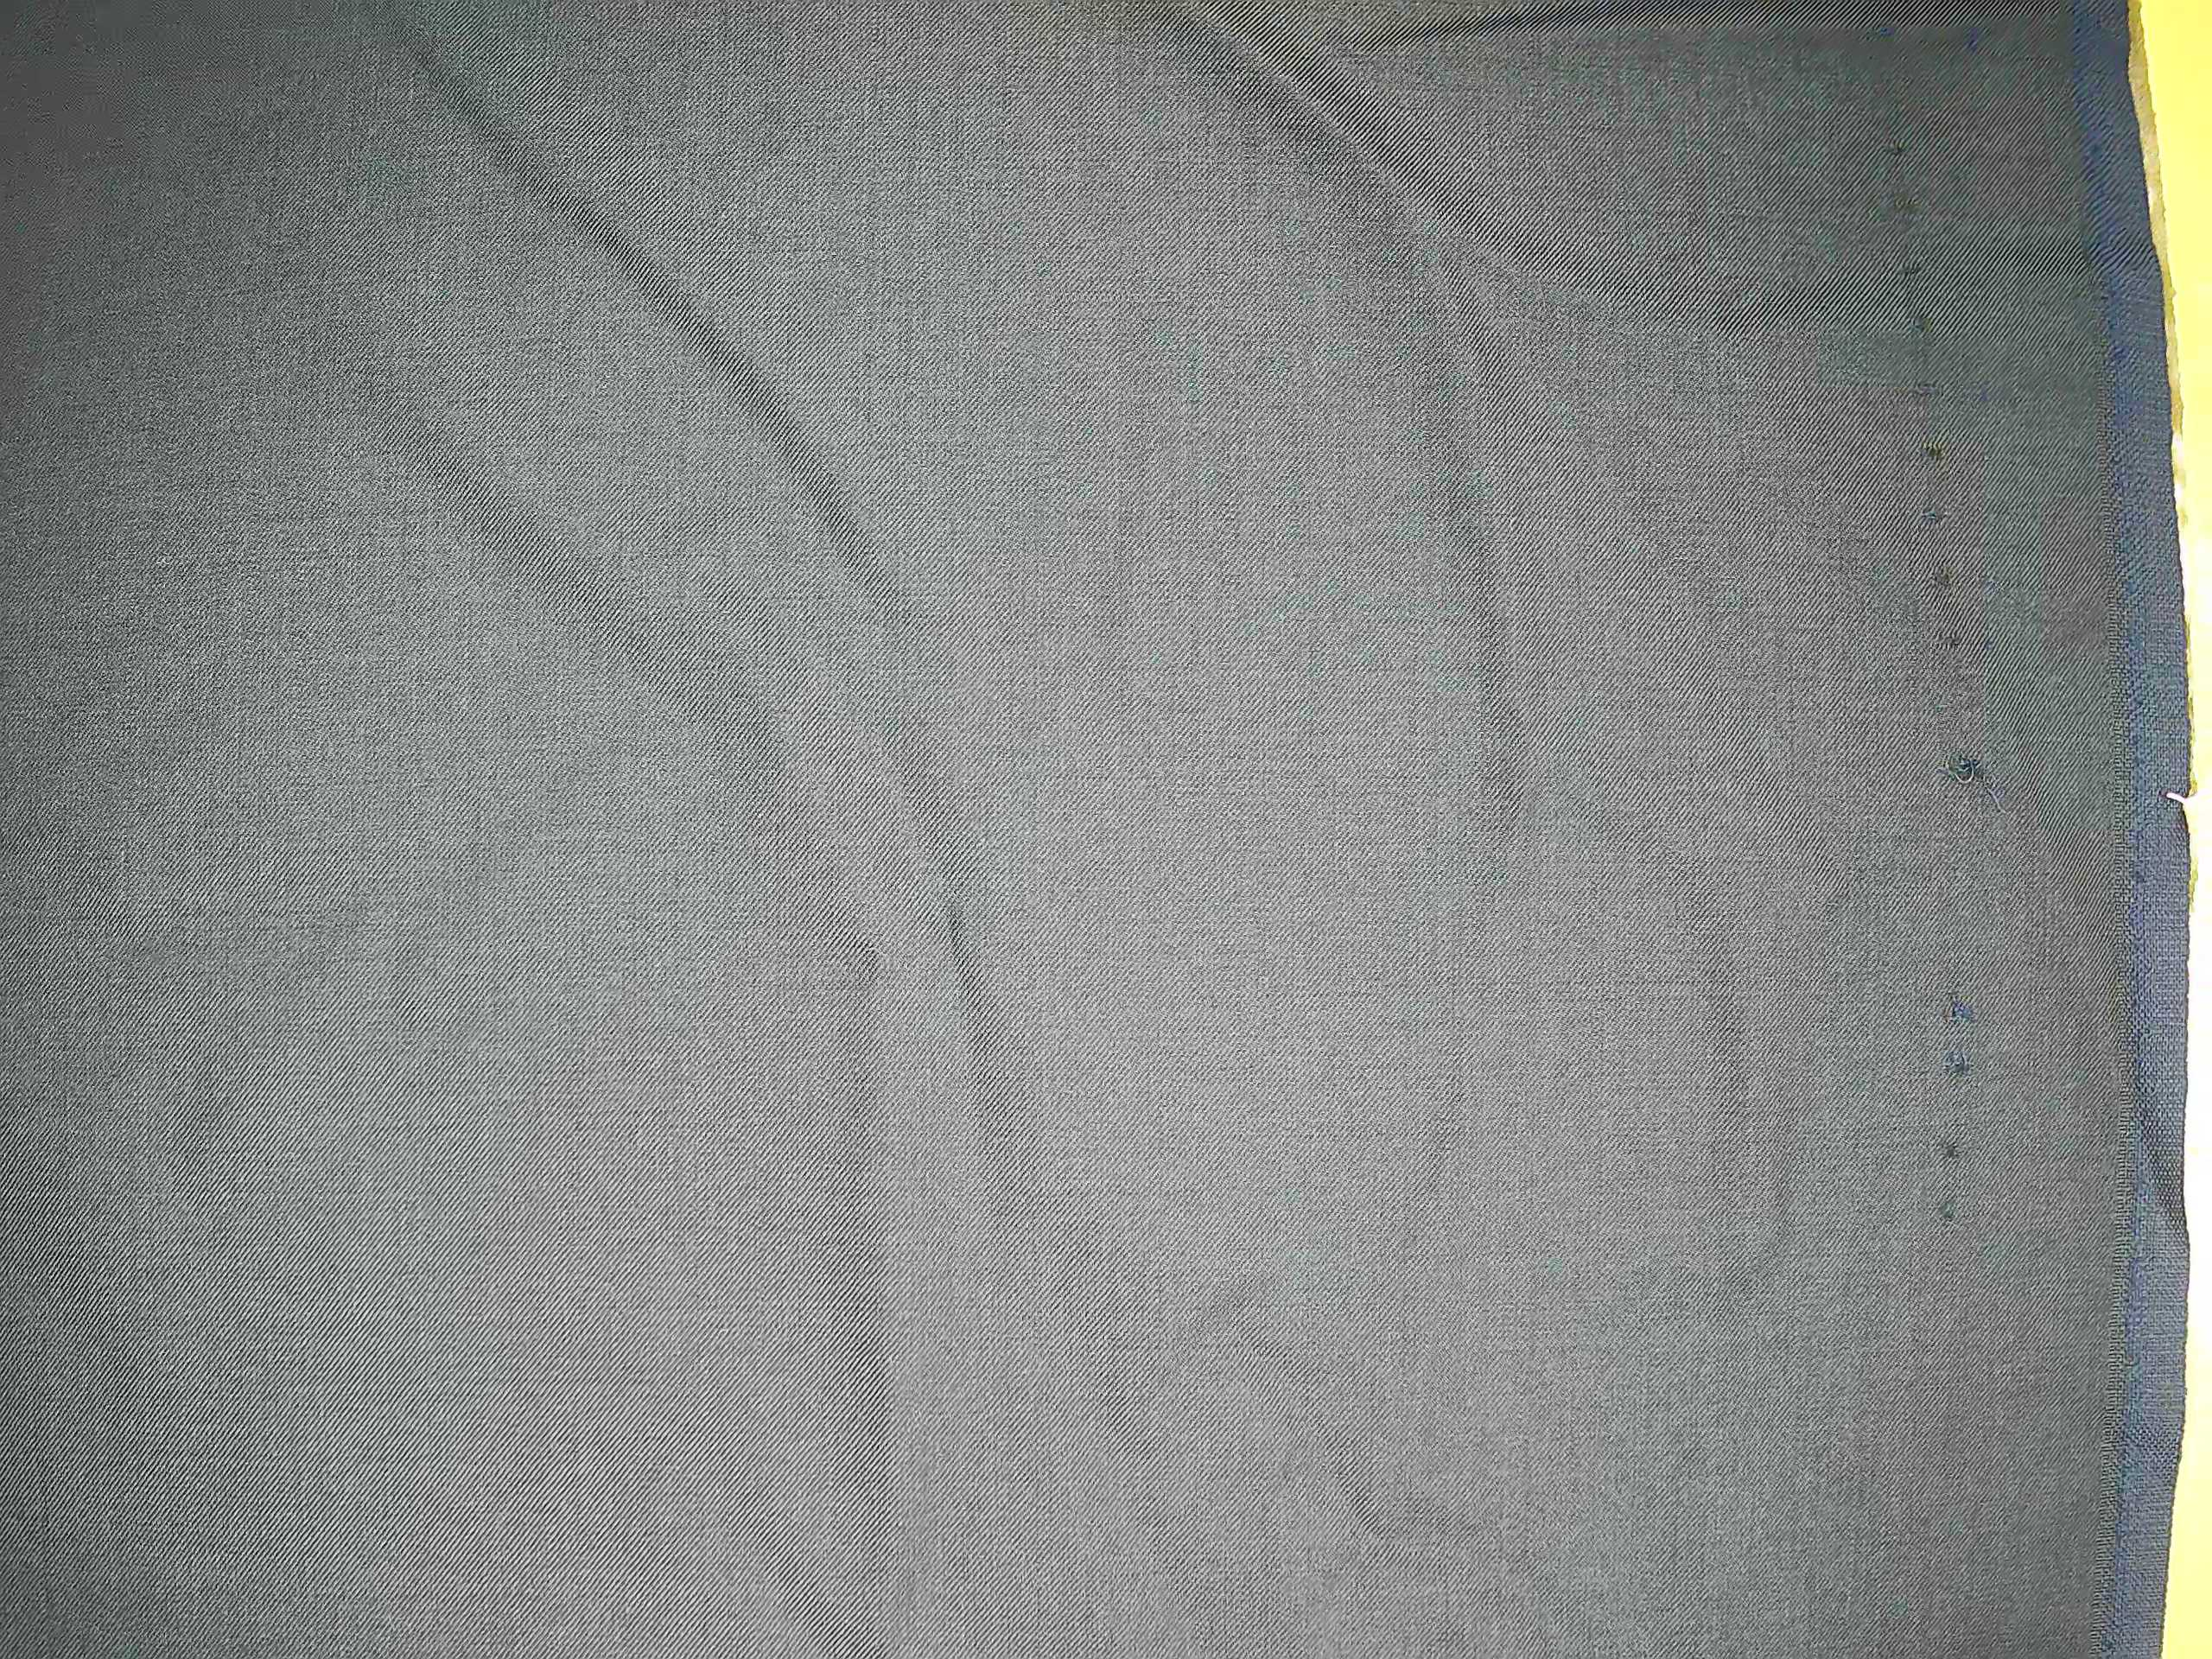扎洞: (1876, 139, 1975, 526), (1926, 584, 2006, 817), (1932, 978, 1987, 1249)
